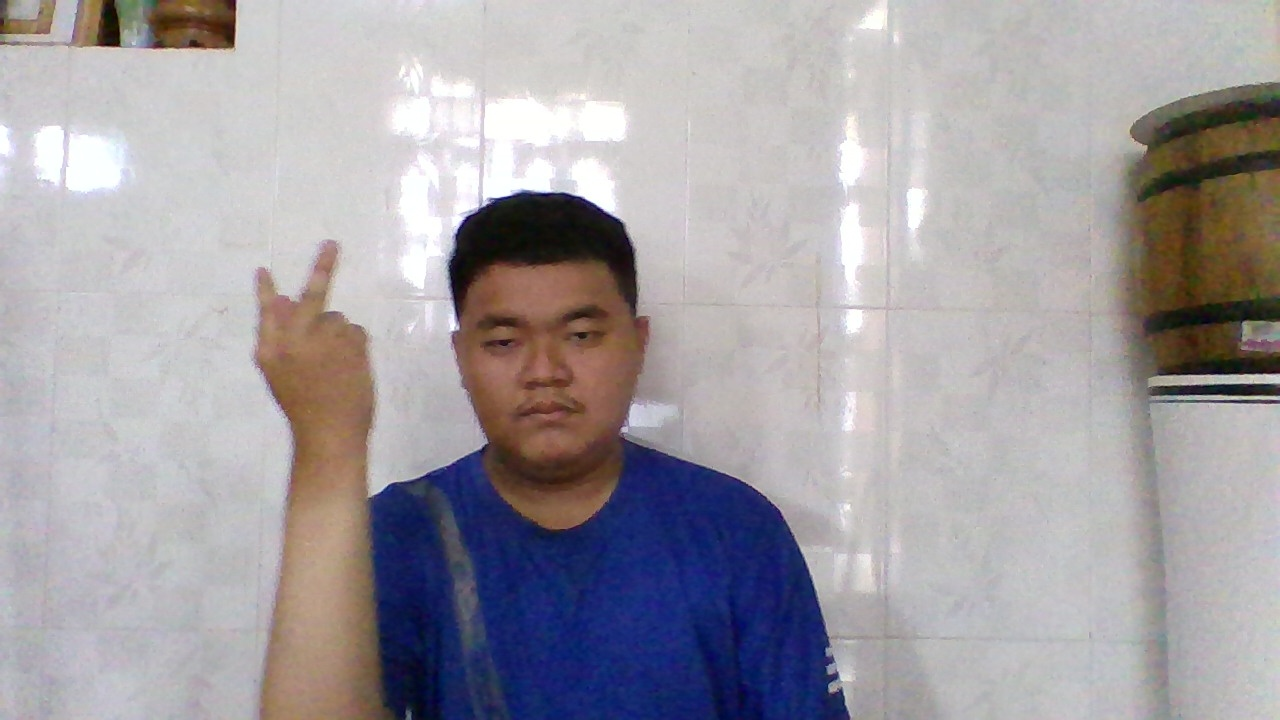K: (244, 230, 374, 449)
